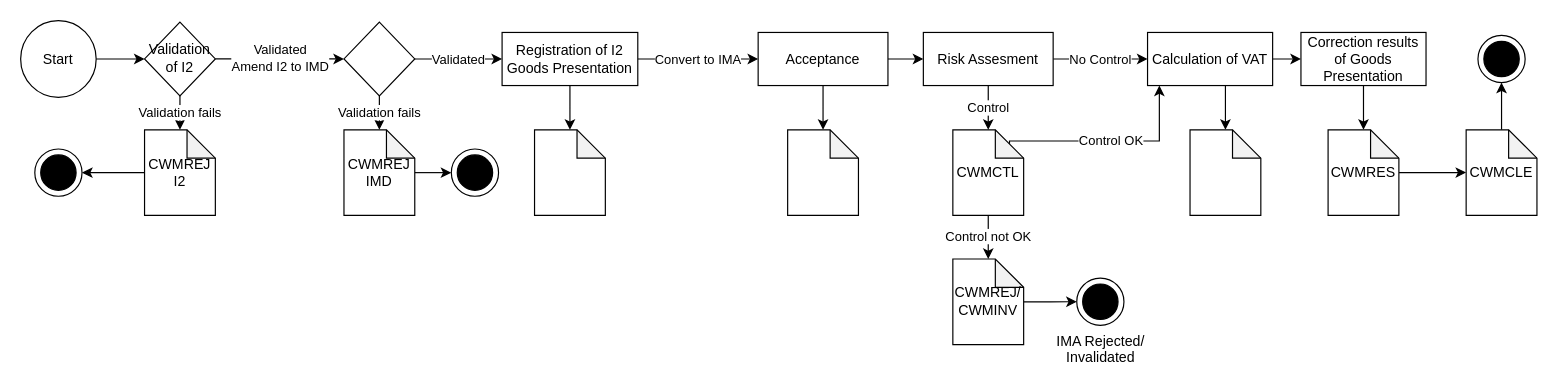
Some shapes in this 1561 by 388 pixel diagram are drawn without their labels. The centre of each missing label's shape, as x and y in pixels:
CWMACC: [822,172]
CWMRCV: [569,172]
CWMTAX: [1225,172]
I2 Rejected: [58,172]
IMA Cleared: [1501,58]
IMD Rejected: [474,172]
Validation of IMD: [379,58]
